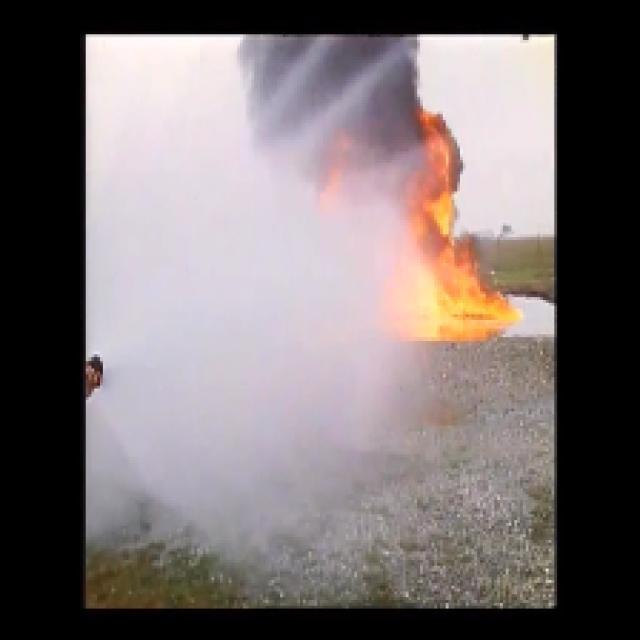Fire: (314, 126, 514, 343)
Smoke: (246, 31, 411, 140)
